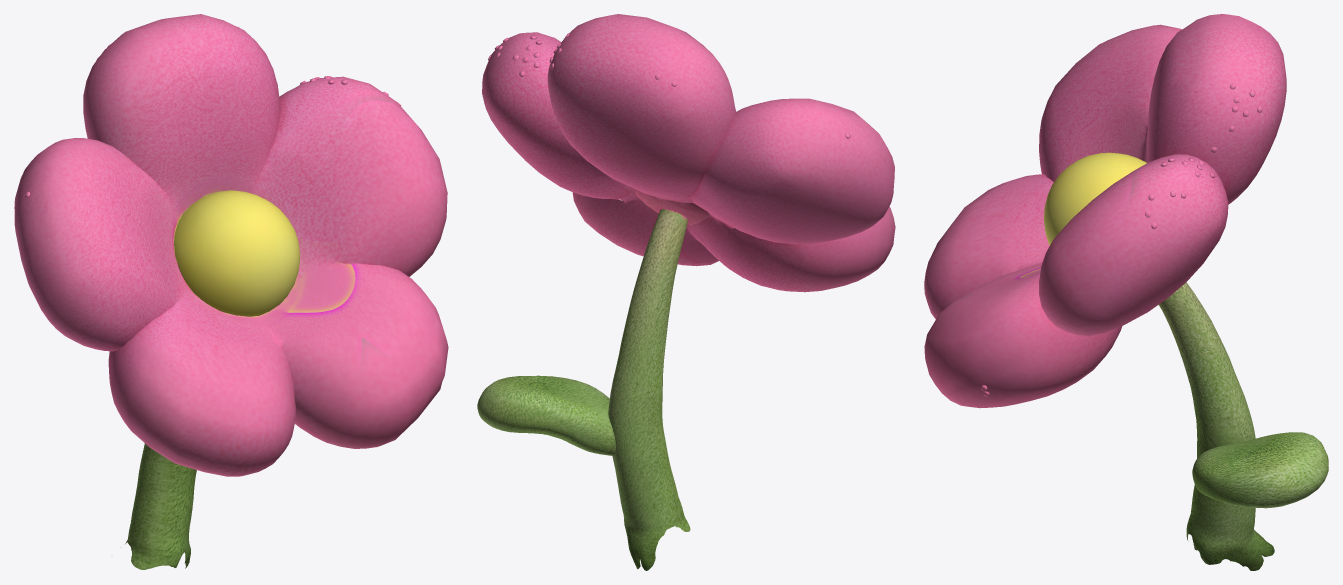
File: pink_fuzzy_flower_3d_model_1.glb
3 views of the same model, side by side, from view 1: azimuth 30°, elevation 25°; view 2: azimuth 150°, elevation 25°; view 3: azimuth 270°, elevation 25° (orthographic). The views are drawn at different scales.
Parts seen in each view (by area): view 1: tripo_7e4093ae_5c5a_45af_8db6_41b641f6a8b0; view 2: tripo_7e4093ae_5c5a_45af_8db6_41b641f6a8b0; view 3: tripo_7e4093ae_5c5a_45af_8db6_41b641f6a8b0.
Boxes of the visible parts, x1=… form: tripo_7e4093ae_5c5a_45af_8db6_41b641f6a8b0: x1=14, y1=14, x2=448, y2=569; tripo_7e4093ae_5c5a_45af_8db6_41b641f6a8b0: x1=477, y1=14, x2=895, y2=570; tripo_7e4093ae_5c5a_45af_8db6_41b641f6a8b0: x1=924, y1=14, x2=1328, y2=570.
Bounding box in the file's own units: 0.7661 × 0.9995 × 0.6636.
1 material, 1 textured.
